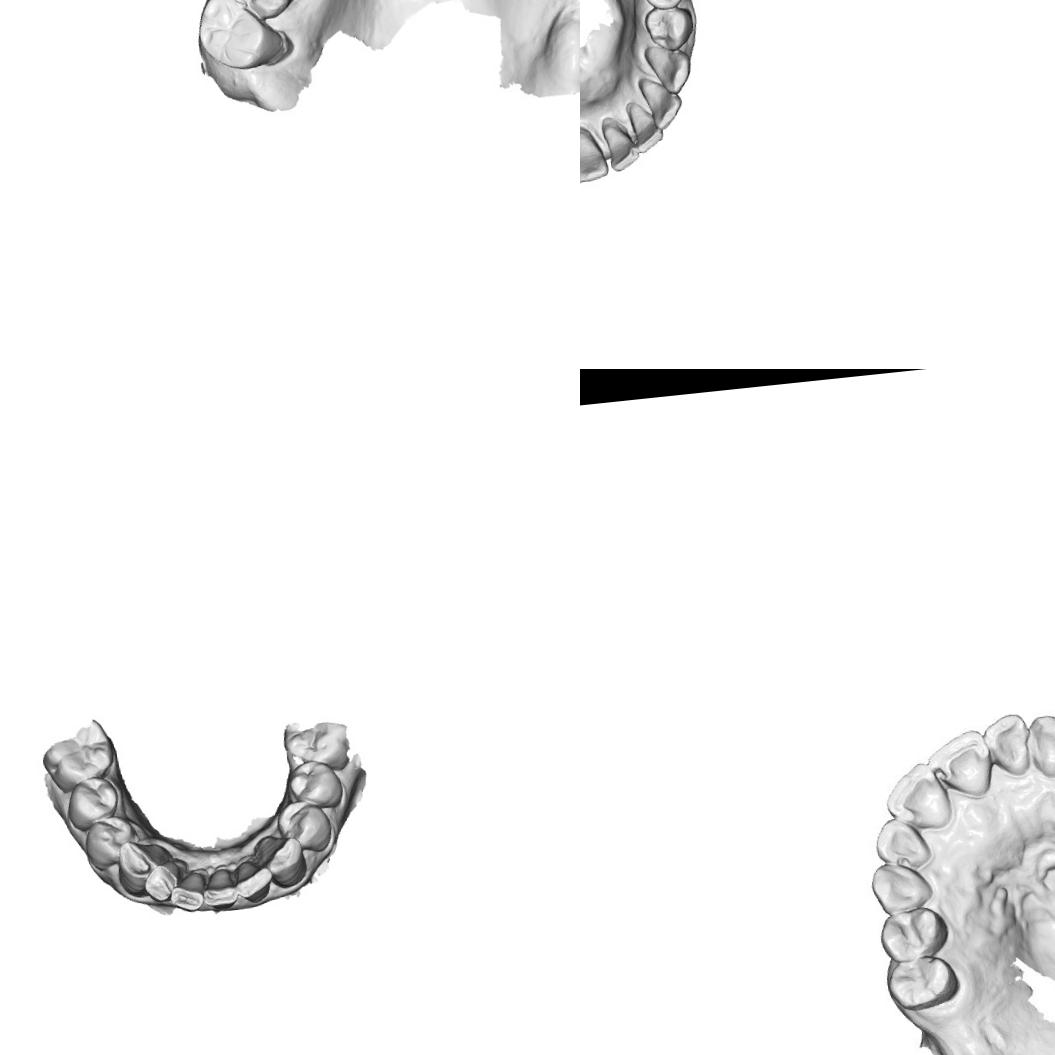canine: (868, 858, 936, 917), (252, 831, 310, 890), (642, 42, 694, 98), (114, 836, 160, 898), (1024, 711, 1055, 783)
incisor: (880, 760, 958, 834), (921, 727, 994, 804), (980, 710, 1036, 780), (871, 814, 932, 871), (636, 72, 685, 132), (600, 119, 641, 174), (626, 100, 665, 156), (232, 858, 276, 905), (140, 859, 182, 904), (580, 123, 610, 184), (167, 870, 206, 914), (201, 867, 238, 912)
molar: (192, 0, 291, 74), (34, 715, 117, 796), (218, 0, 309, 24)
premolar: (882, 952, 966, 1013), (876, 904, 951, 963), (274, 797, 334, 856), (63, 774, 122, 833), (80, 812, 138, 872), (286, 757, 345, 812), (642, 2, 697, 54), (638, 0, 690, 11)
